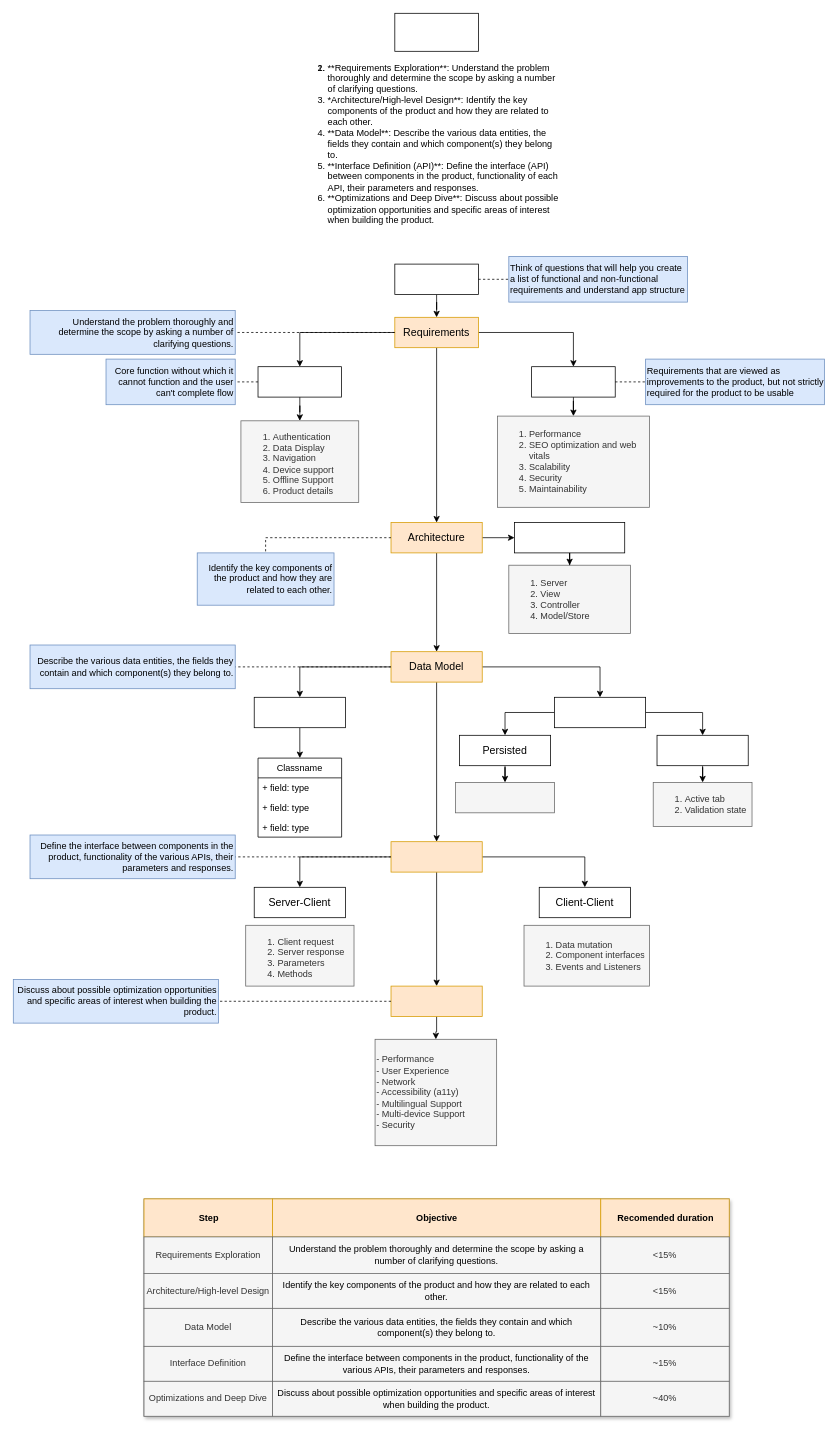
The diagram is 838 pixels wide and 1435 high, and some of its shapes have lost their labels. Here are the shapes that lost their labels. From the top down, the centre of each, then its label:
(436,32): Cheatsheet
(436,278): Questions
(299,381): Functional
(573,381): Non-functional
(569,537): Components/Modules
(299,712): Server
(600,712): Client
(702,750): Temporary
(504,797): Input content
(436,856): API
(436,1000): Optimization
